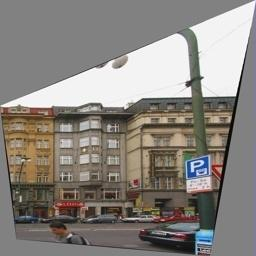building: (134, 100, 235, 225), (53, 104, 132, 227), (0, 104, 53, 227)
